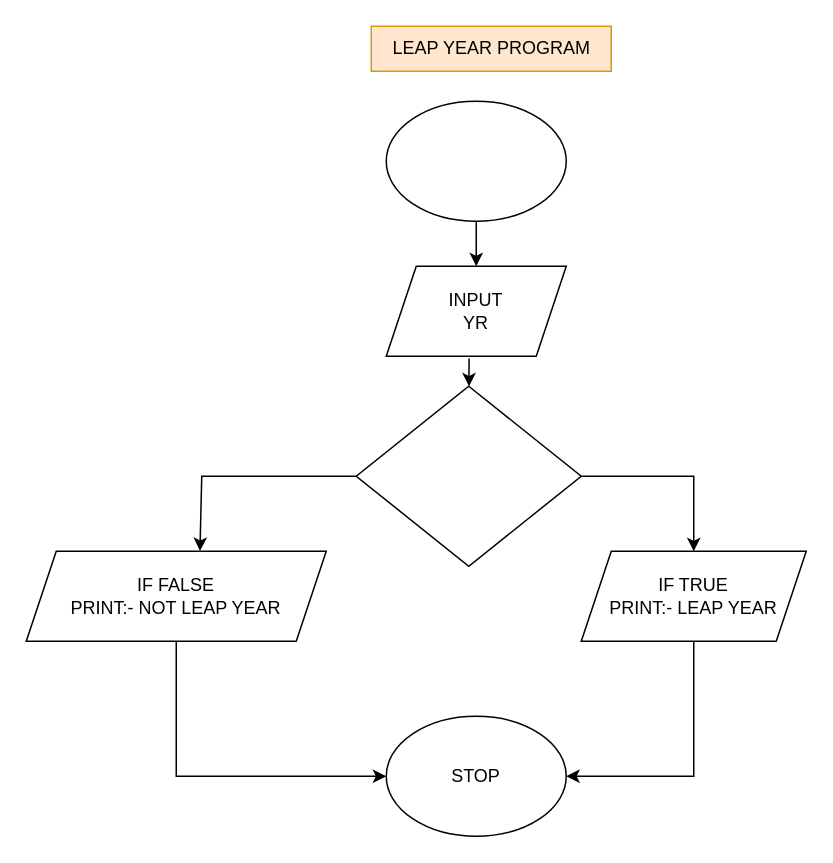
Some shapes in this 833 by 863 pixel diagram are drawn without their labels. The centre of each missing label's shape, as x and y in pixels:
IF (YR%4==0 && YR%100!=0) || YR%400==0: the point at 468,475
START: the point at 475,160
